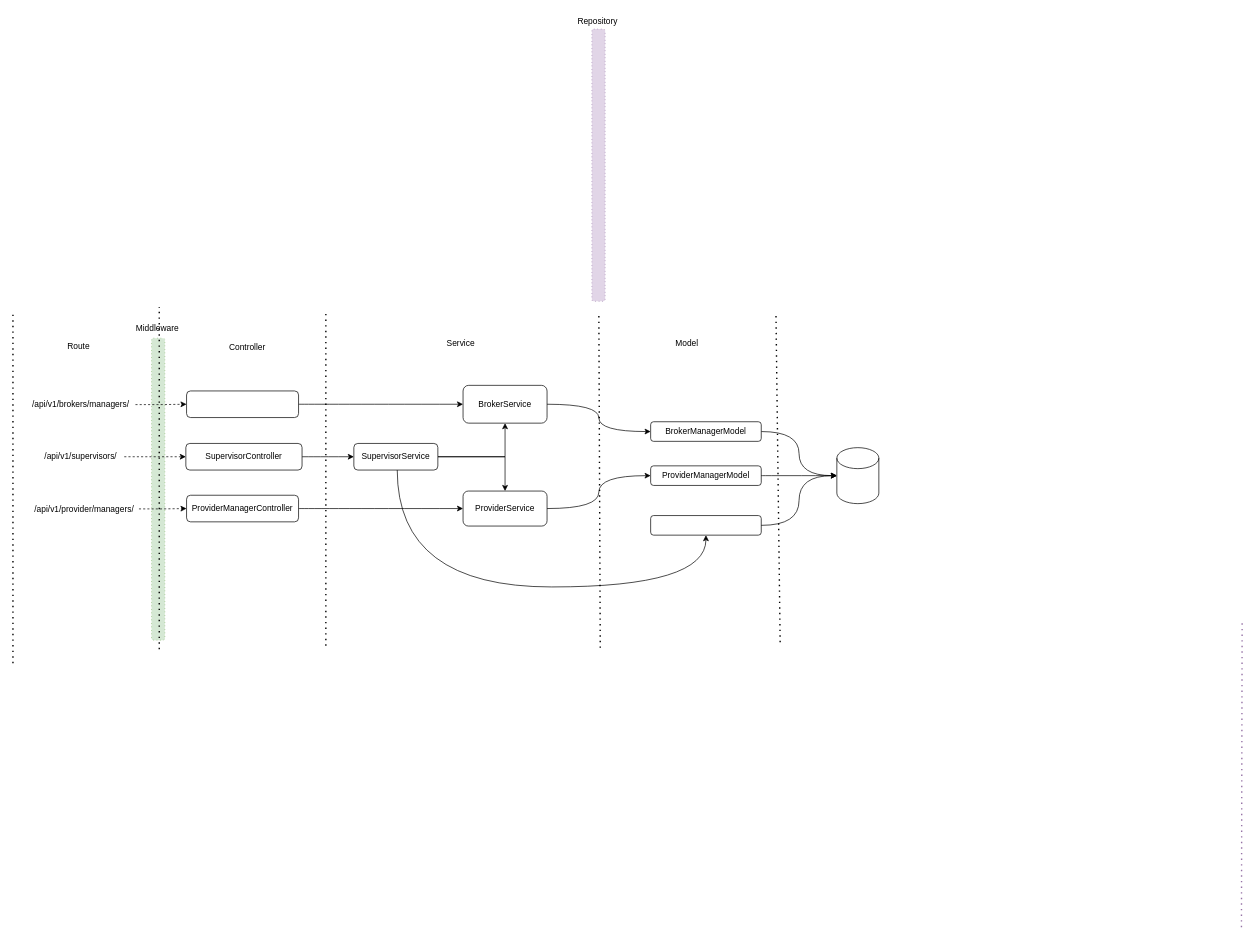
Some shapes in this 1255 by 940 pixel diagram are drawn without their labels. Here are the shapes that lost their labels. From the top down, the centre of each, then its label:
At point (242, 404): "BrokerManagerController".
At point (857, 475): "DB".
At point (705, 525): "BrokerActivityLogModel".
